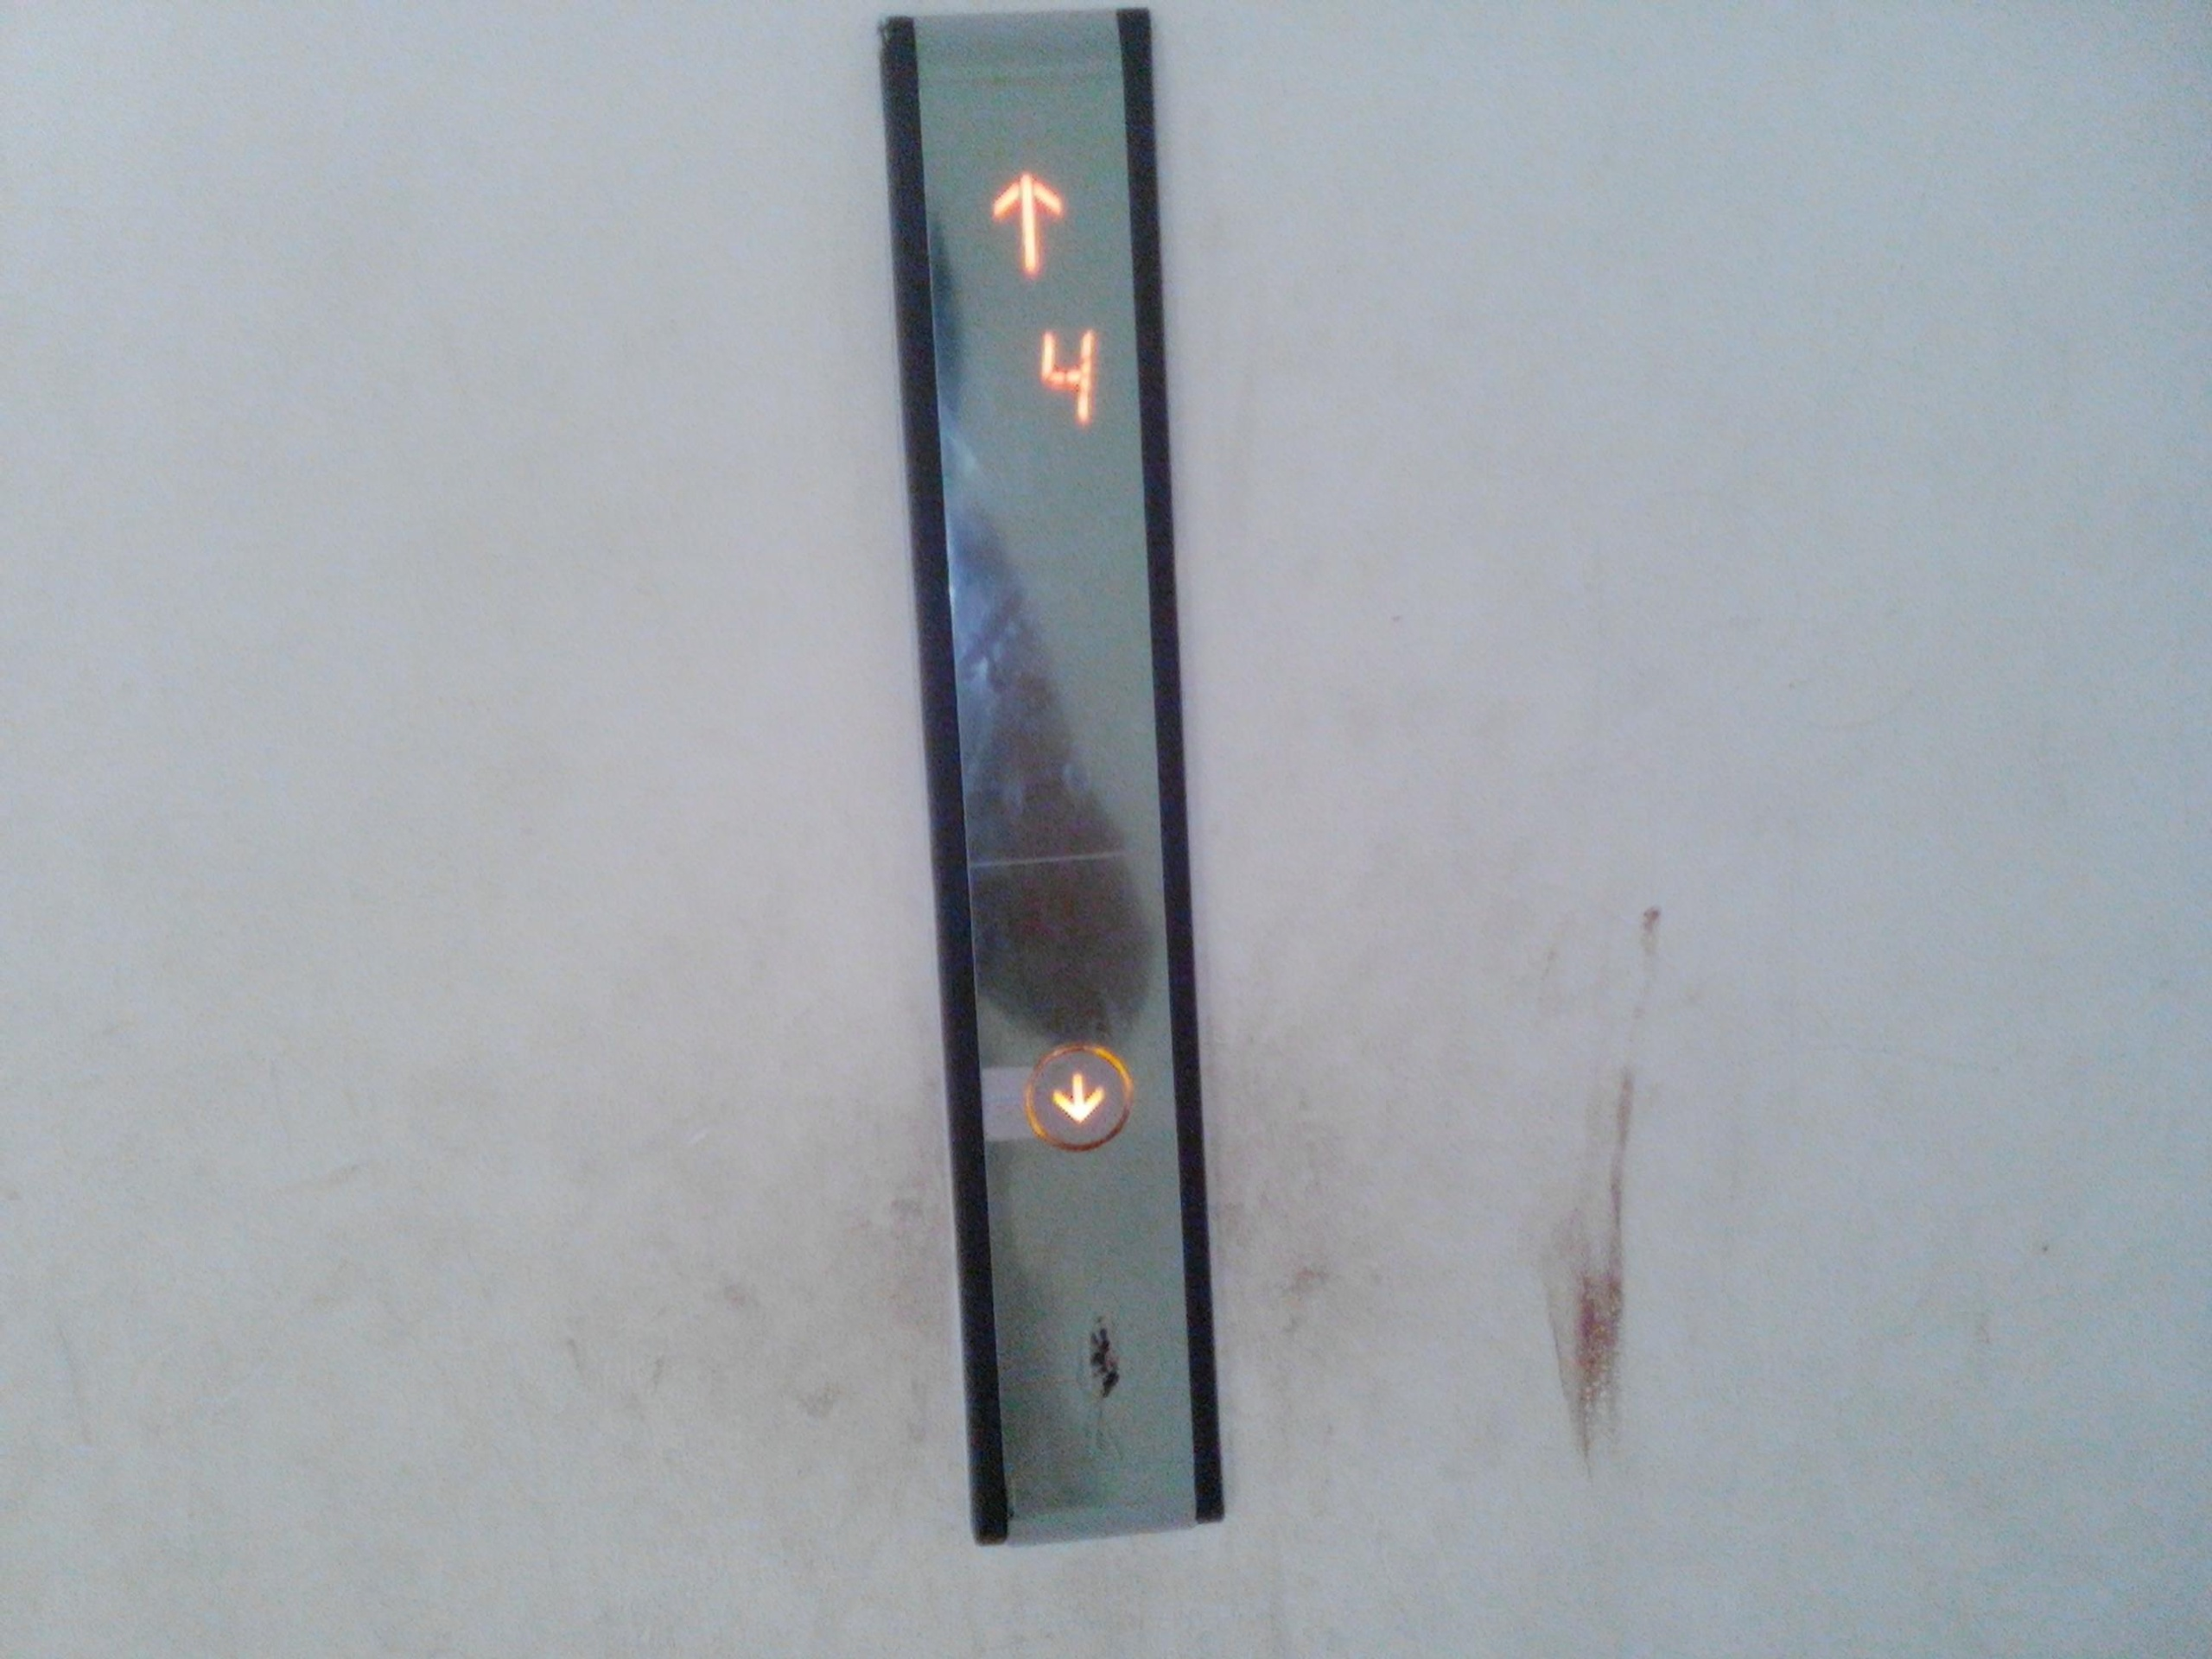down: (1022, 1040, 1132, 1152)
led: (900, 58, 1165, 547)
